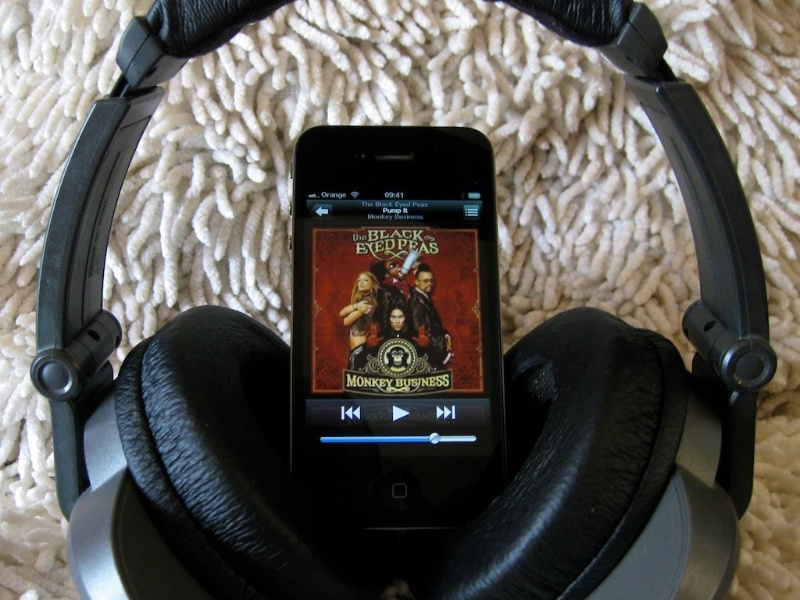cellphone: (288, 122, 510, 524)
